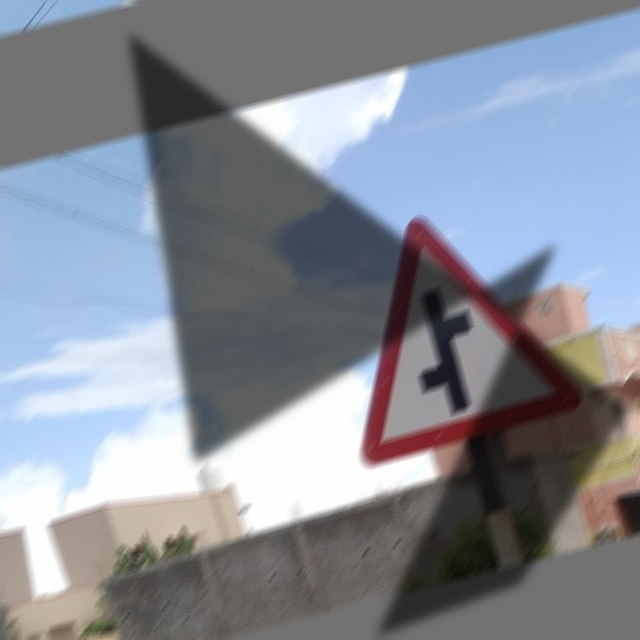Staggered_Intersection: (302, 187, 593, 476)
